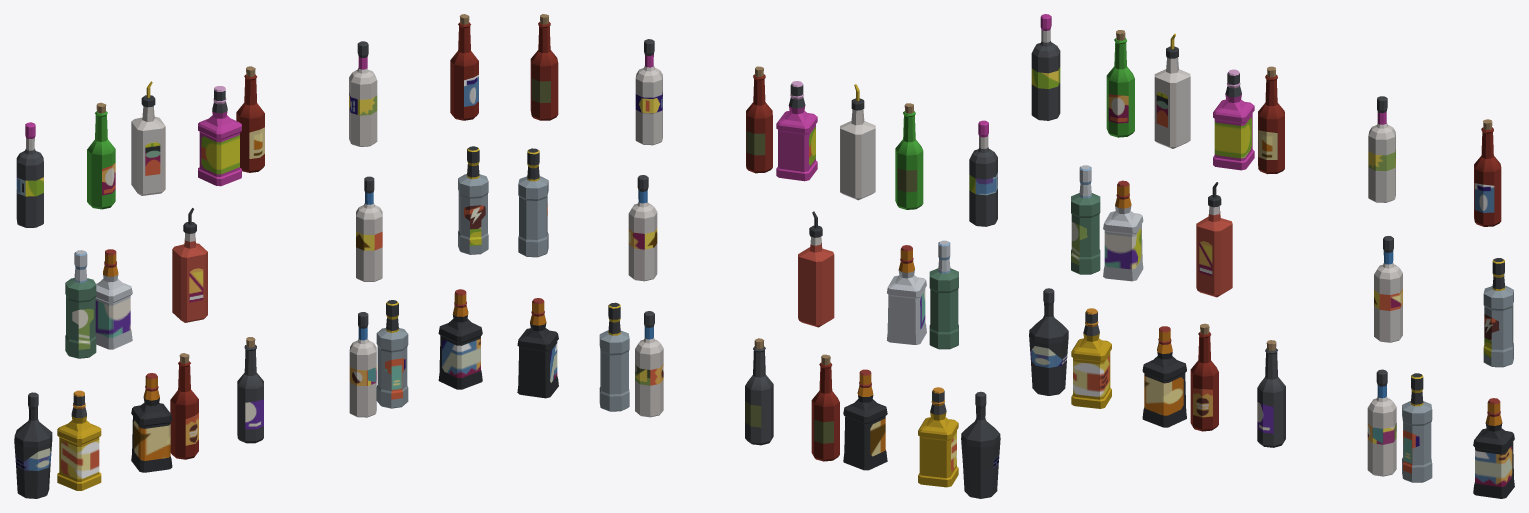
The model's file is SM_Bld_Shelf_01_Insert_02.fbx.
3 renders of one model, left to right at view 1: azimuth 30°, elevation 25°; view 2: azimuth 150°, elevation 25°; view 3: azimuth 330°, elevation 25°, orthographic.
Visible parts, largest first — view 1: SM_Bld_Shelf_01_Insert_02; view 2: SM_Bld_Shelf_01_Insert_02; view 3: SM_Bld_Shelf_01_Insert_02.
Part boxes in pixels (left/top/right/bottom): SM_Bld_Shelf_01_Insert_02: left=14, top=14, right=488, bottom=498; SM_Bld_Shelf_01_Insert_02: left=517, top=14, right=1000, bottom=498; SM_Bld_Shelf_01_Insert_02: left=1029, top=14, right=1514, bottom=498.
Size of the model in its own units: 234 by 179 by 25.57.
1 material, 1 textured.
